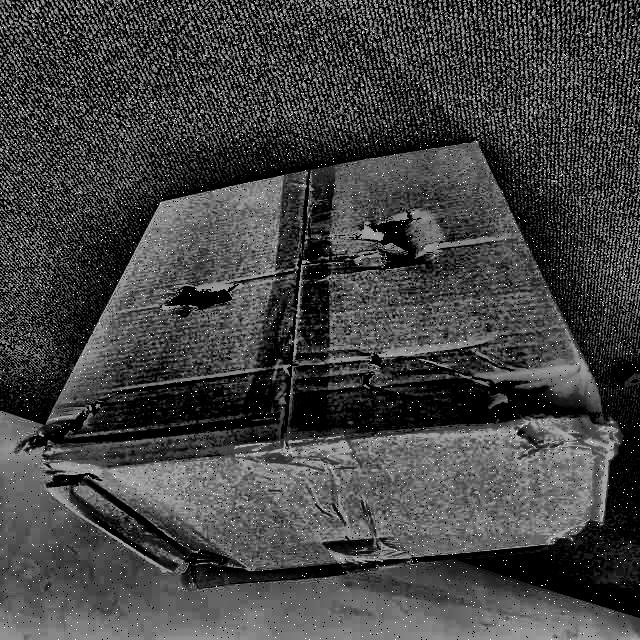box: (16, 143, 636, 580)
hole: (482, 371, 582, 447), (28, 409, 109, 495), (360, 208, 436, 272), (162, 281, 230, 311)
